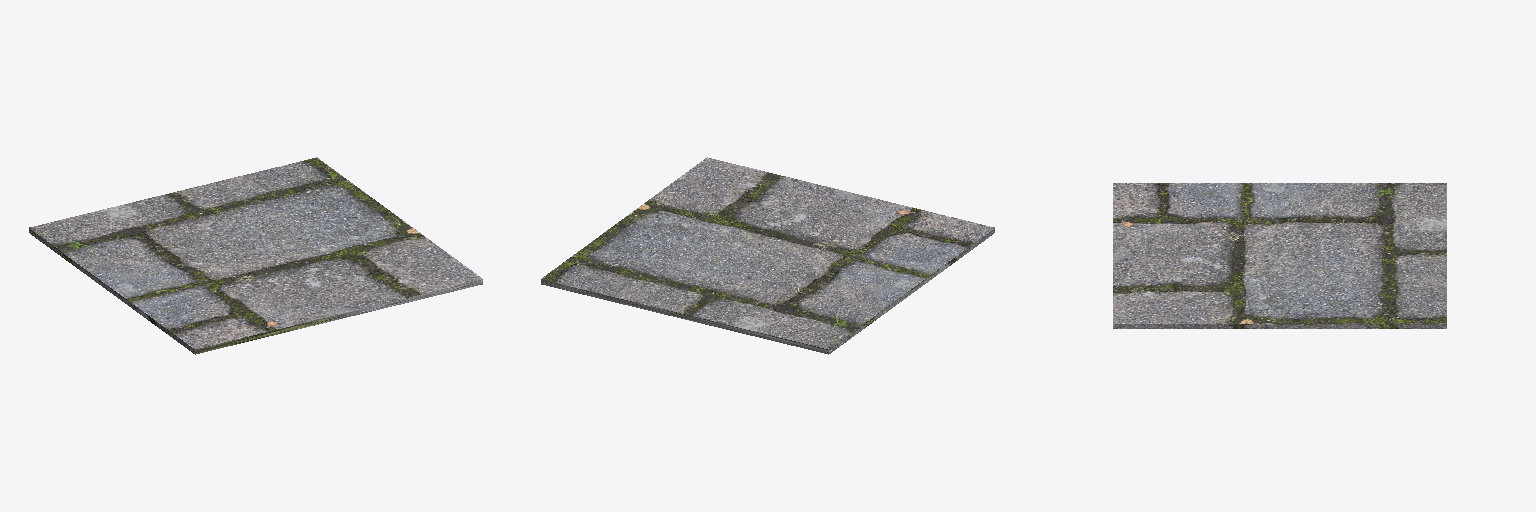
3 renders of one model, left to right at view 1: azimuth 30°, elevation 25°; view 2: azimuth 150°, elevation 25°; view 3: azimuth 270°, elevation 25°, orthographic.
Parts seen in each view (by area): view 1: Cube; view 2: Cube; view 3: Cube.
Boxes of the visible parts, x1,y1,x2,y2 form: Cube: [29, 157, 482, 354]; Cube: [541, 157, 994, 354]; Cube: [1113, 183, 1446, 328].
Size of the model in its own units: 120 by 2 by 120.
Materials: 1 (1 with a texture image).